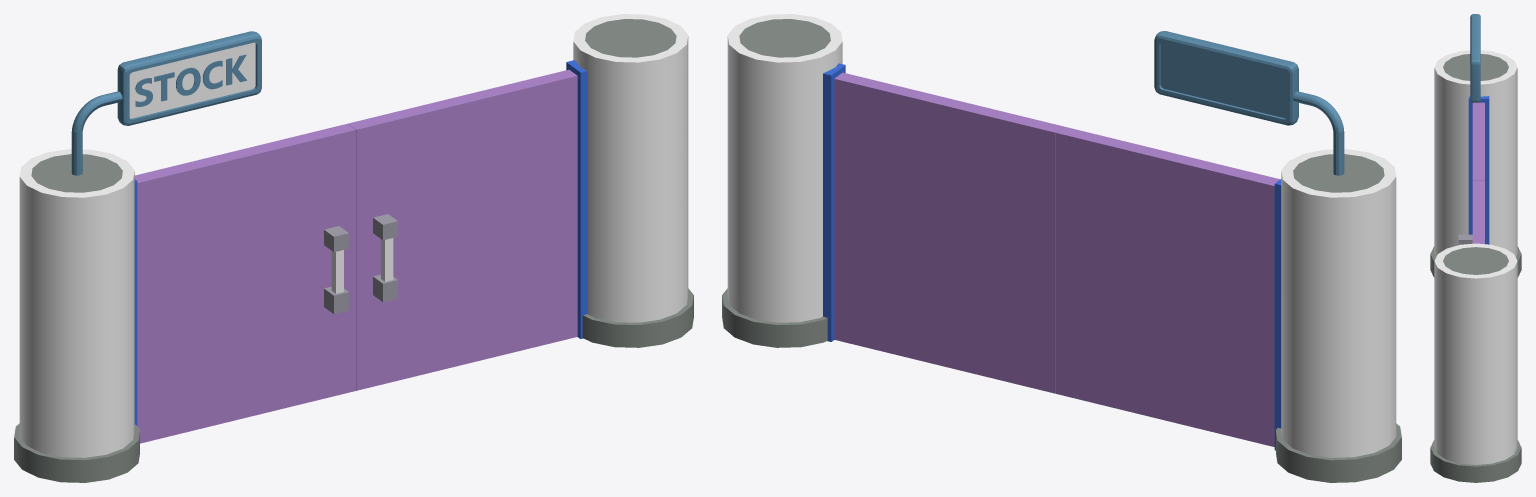
The model's file is Door_00.fbx.
3 renders of one model, left to right at view 1: azimuth 30°, elevation 25°; view 2: azimuth 150°, elevation 25°; view 3: azimuth 270°, elevation 25°, orthographic. The views are drawn at different scales.
Visible parts, largest first — view 1: Door_00; view 2: Door_00; view 3: Door_00.
Boxes of the visible parts, x1,y1,x2,y2 form: Door_00: (14, 14, 693, 482); Door_00: (722, 14, 1401, 482); Door_00: (1430, 14, 1521, 482).
Size of the model in its own units: 584 by 321 by 96.81.
Materials: 1 (1 with a texture image).
